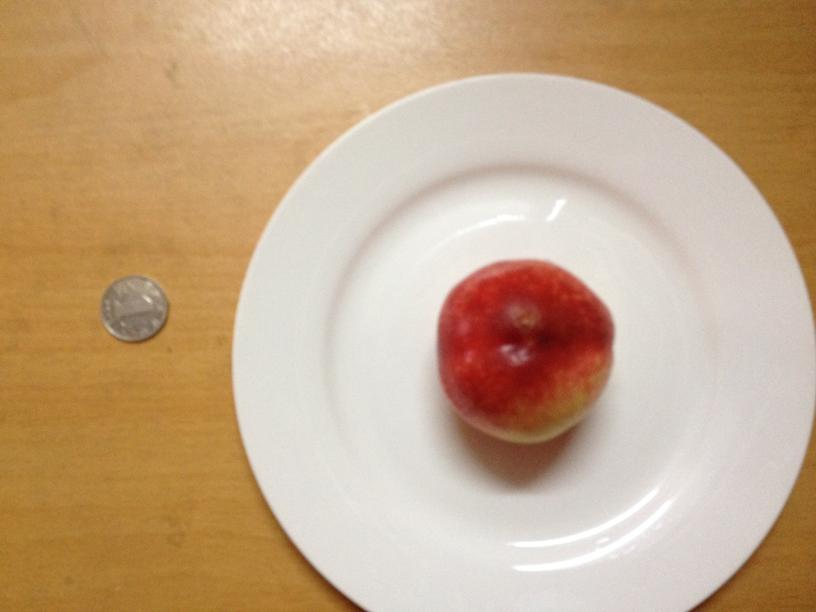coin: (96, 273, 172, 343)
peach: (430, 260, 619, 445)
